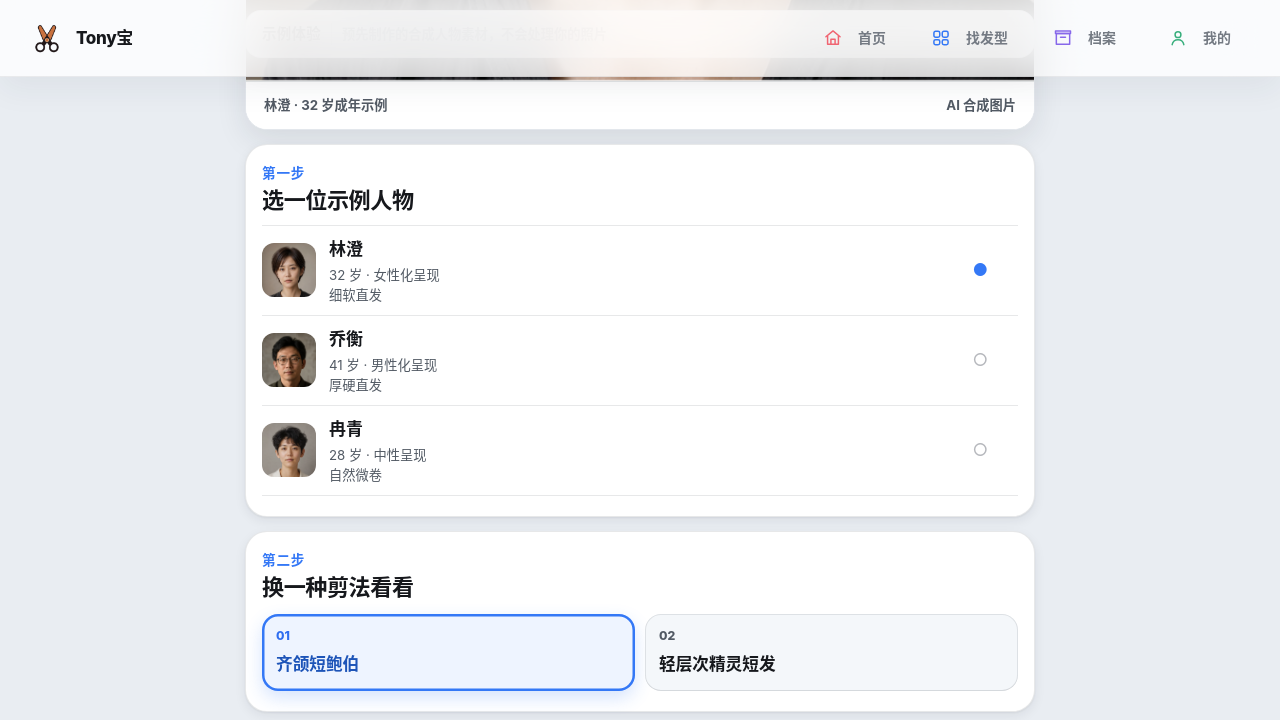
app shell › switches the fictional adult and hairstyle details together
(page scrolled)
Click the button with aria-label "选择人物：乔衡".
click(289, 360)  # box [262,316,1018,406]
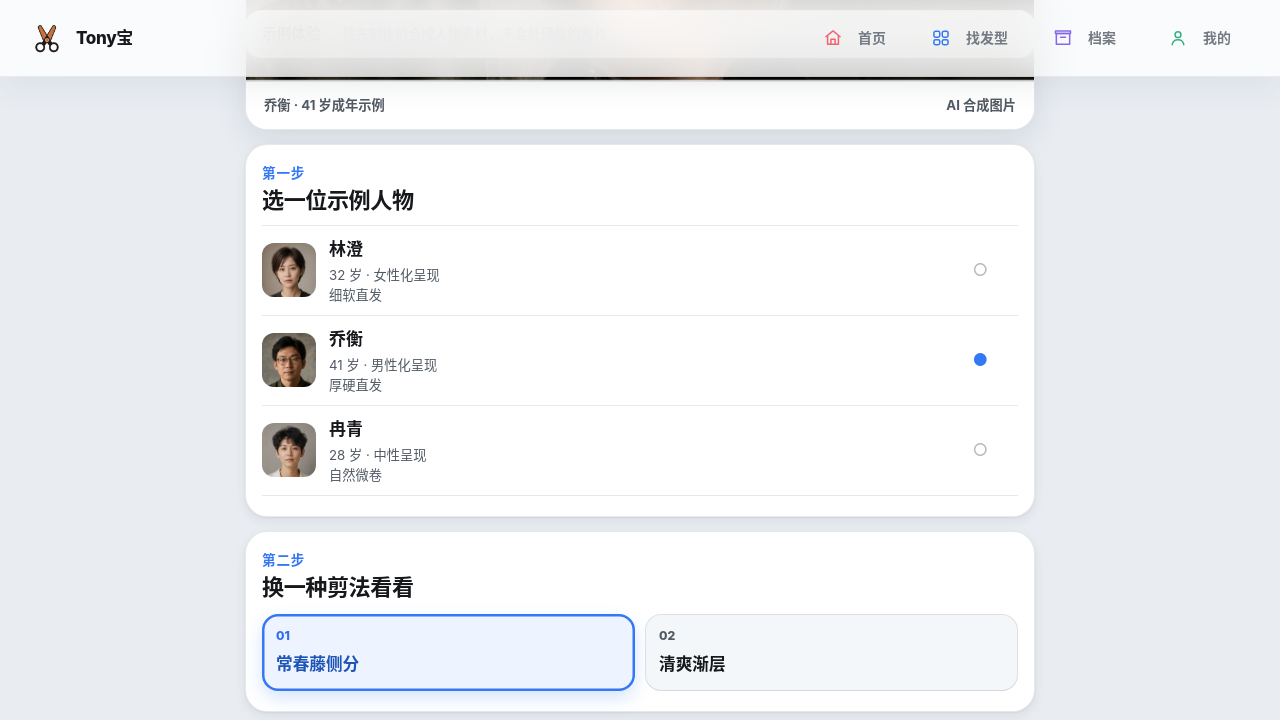
Click the button with aria-label "选择方案：清爽渐层".
click(692, 664)  # box [645,614,1018,691]
(page scrolled)
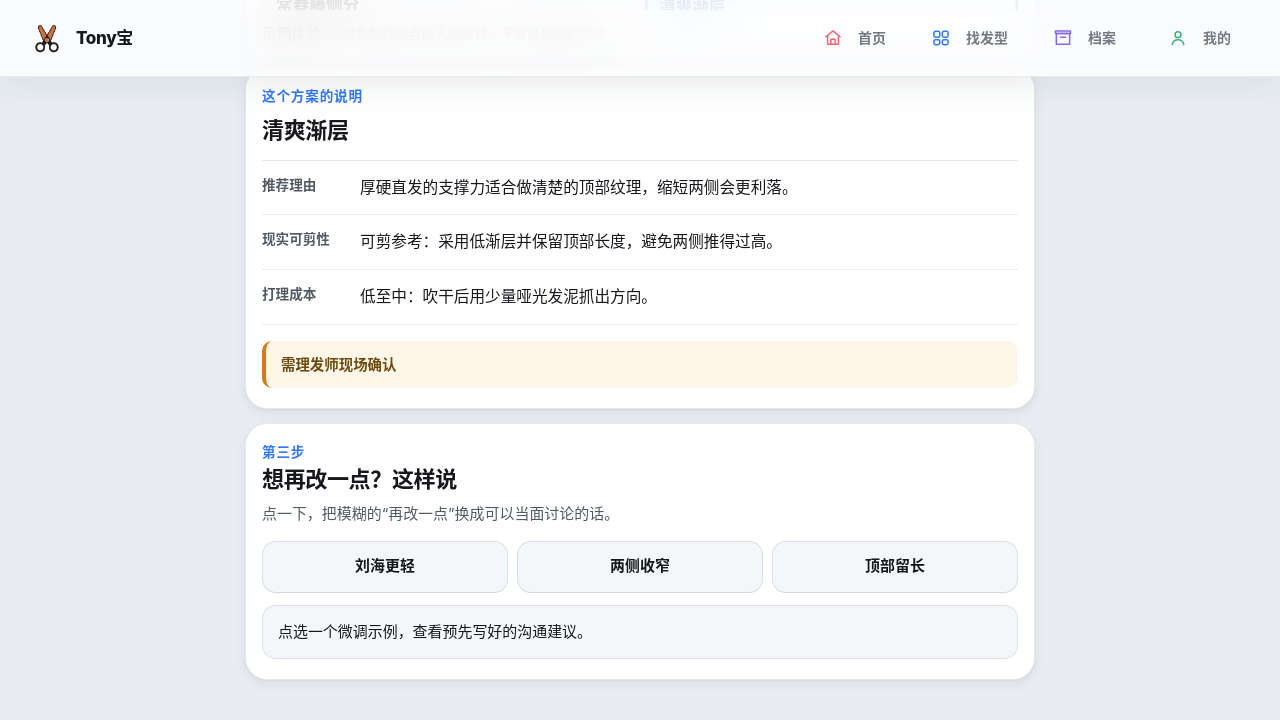
Expected: the text "需理发师现场确认" is shown, [262,341,1018,388]
Result: the text "厚硬直发的支撑力适合做清楚的顶部纹理，缩短两侧会更利落。" is shown at [360,178,798,197]
Result: the text "低至中：吹干后用少量哑光发泥抓出方向。" is shown at [360,287,657,306]
